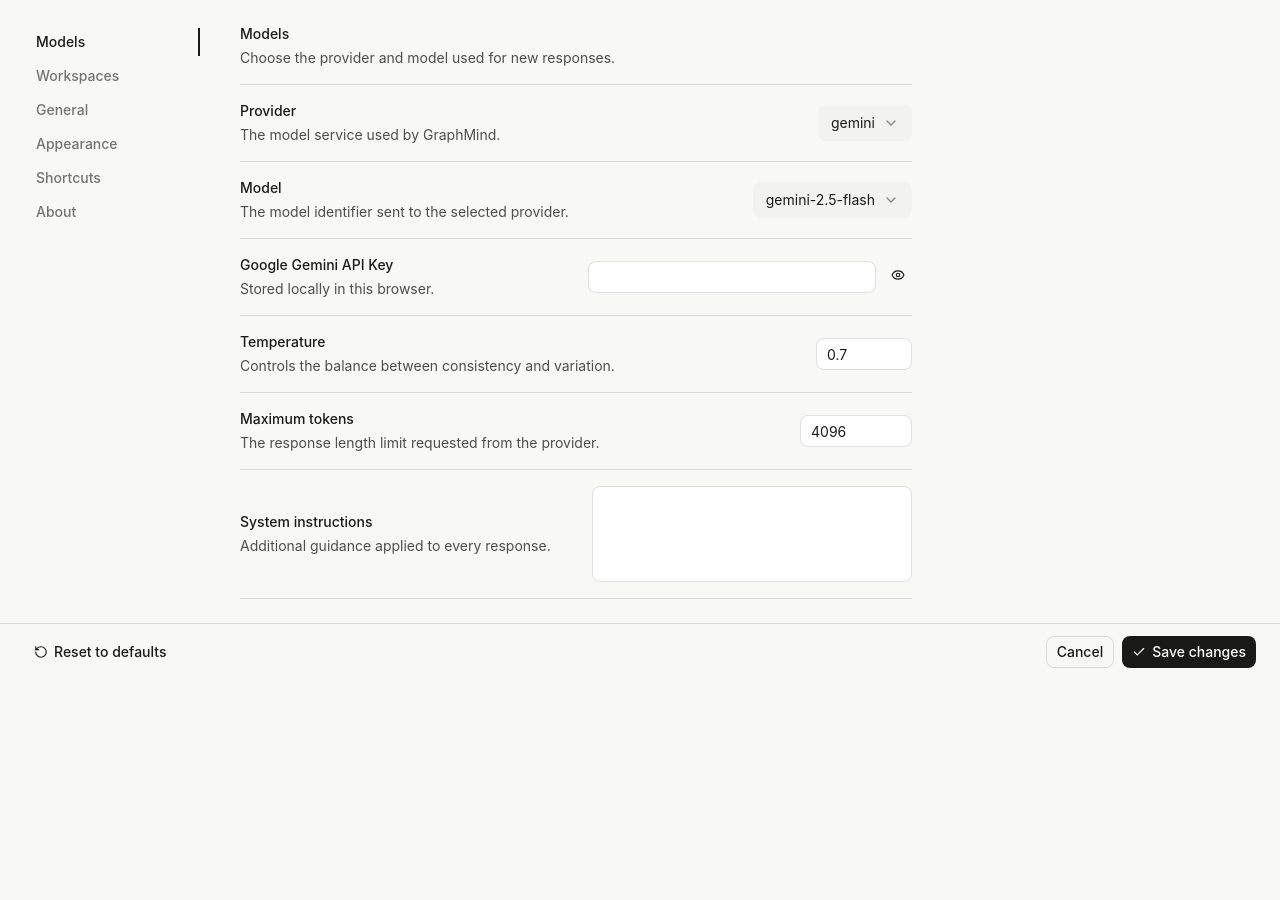
Test: LSI-045 owned data export › disables export when no workspace is in scope
The image size is (1280, 900).
Click the tab "Workspaces" at (112, 76), box [27,61,197,91]
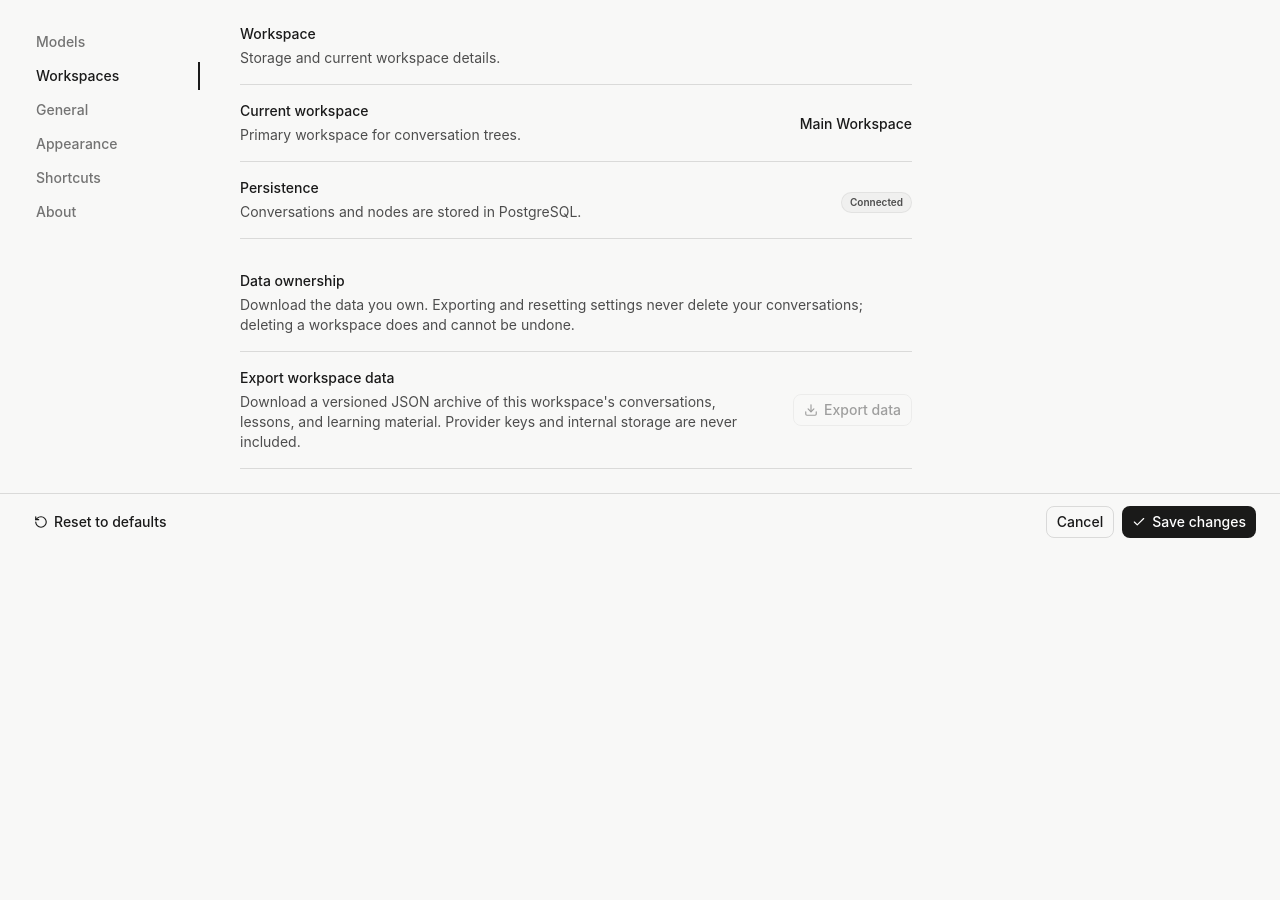
Now the button "Export data" is disabled, box [793,394,912,426]
